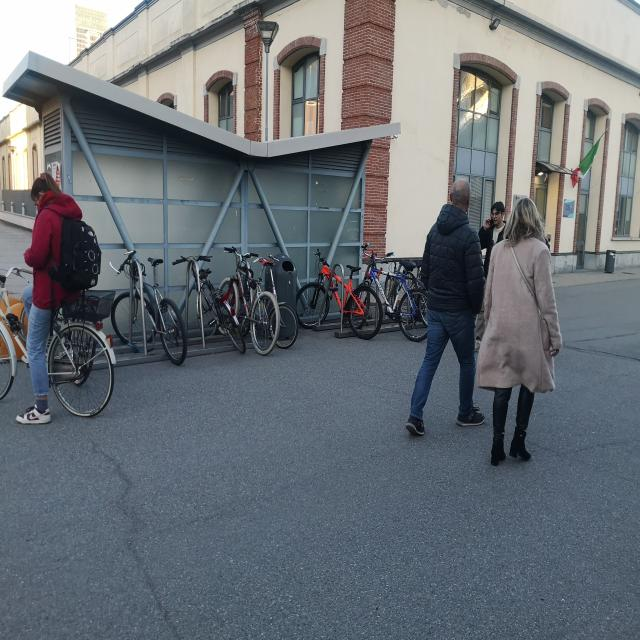Bicycle: (0, 260, 124, 429), (291, 234, 380, 366), (104, 232, 182, 372), (212, 233, 278, 368), (166, 250, 235, 362), (348, 251, 426, 346), (254, 244, 296, 352)
